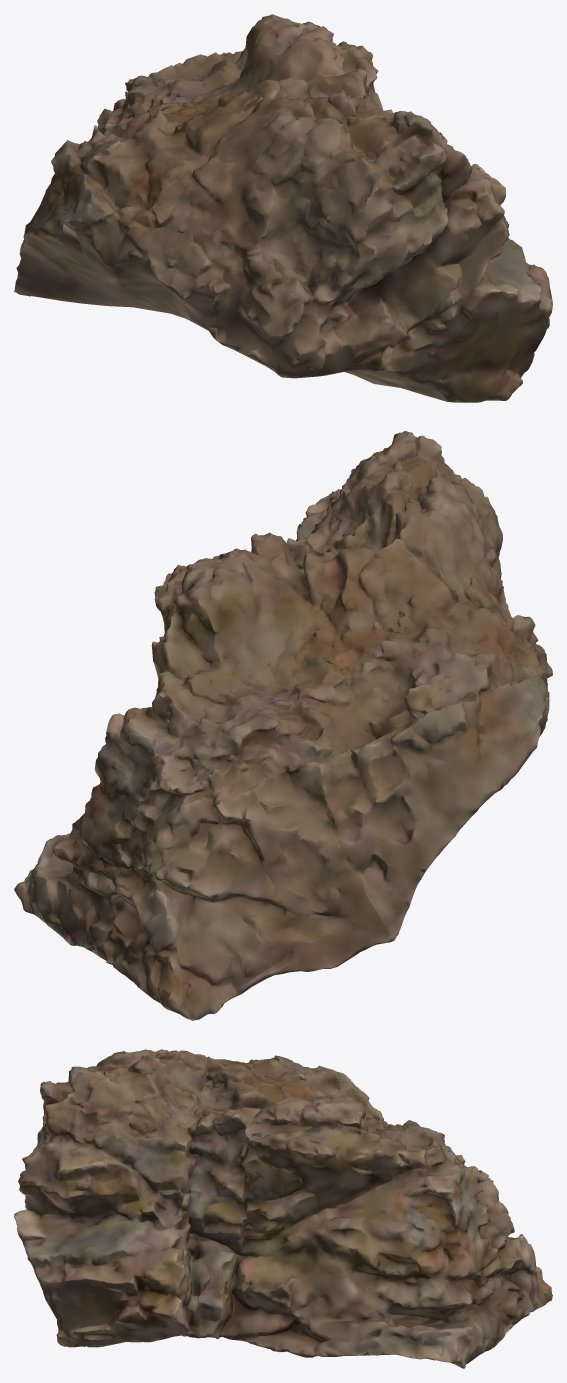
Rendered from boulder_01_lod2.glb.
3 views of the same model, one above another, from view 1: azimuth 30°, elevation 25°; view 2: azimuth 150°, elevation 25°; view 3: azimuth 270°, elevation 25° (orthographic). The views are drawn at different scales.
Visible parts, largest first — view 1: boulder_01; view 2: boulder_01; view 3: boulder_01.
Part boxes in pixels (box(x1,y1,x2,y2)): boulder_01: box(14, 14, 552, 402); boulder_01: box(14, 431, 552, 1020); boulder_01: box(14, 1049, 552, 1368).
Size of the model in its own units: 1.27 by 1 by 1.83.
Materials: 1 (1 with a texture image).
